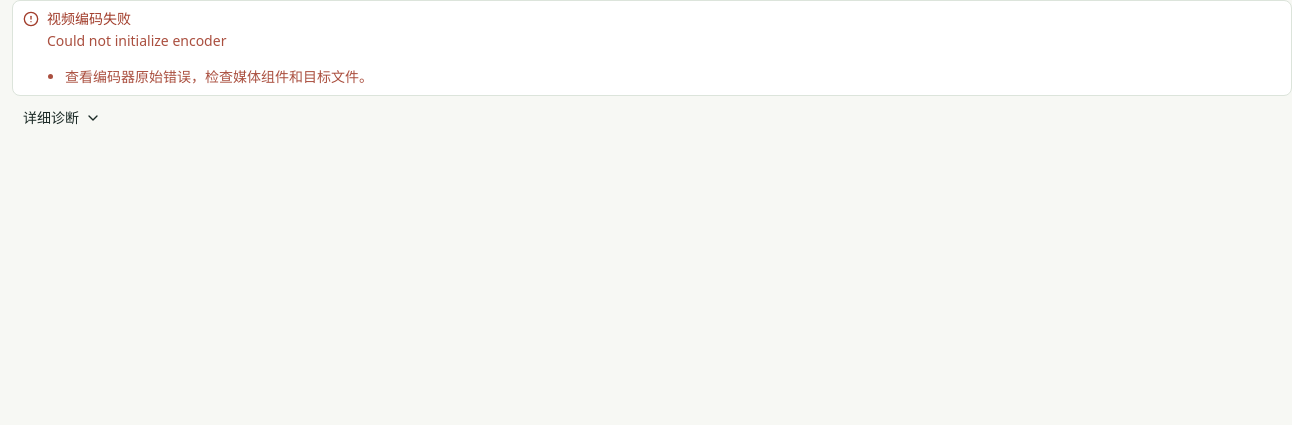
it: keeps the original encode_failed diagnosis visible
Expected: the text "Could not initialize encoder" is shown, [47,31,226,50]
Click the button "详细诊断" at (61, 118), box [12,102,110,134]
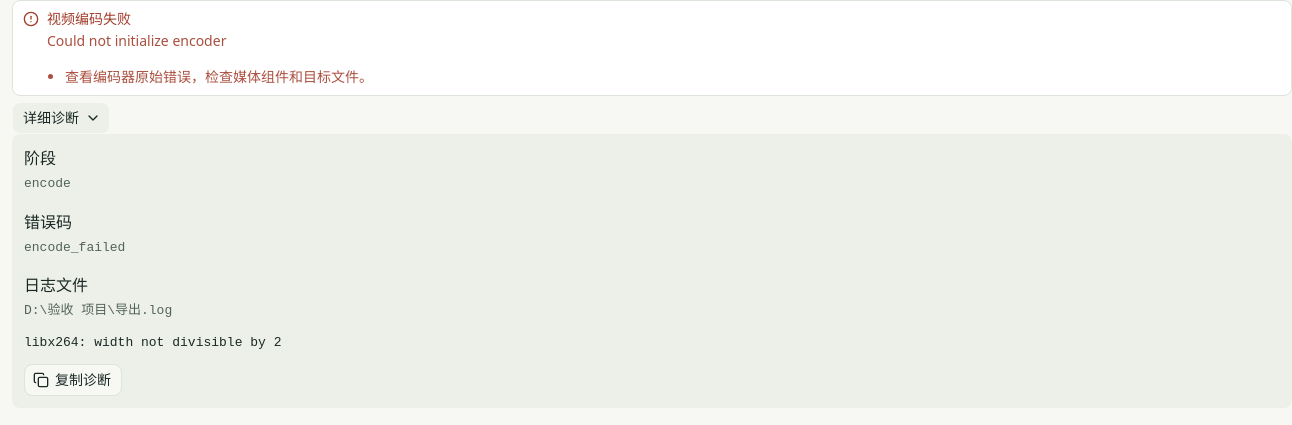
Result: the text "encode" is shown at [24,176,71,191]
Result: the text "libx264: width not divisible by 2" is shown at [24,334,282,350]
Result: the text "D:\\验收 项目\\导出.log" is shown at [24,303,172,318]
